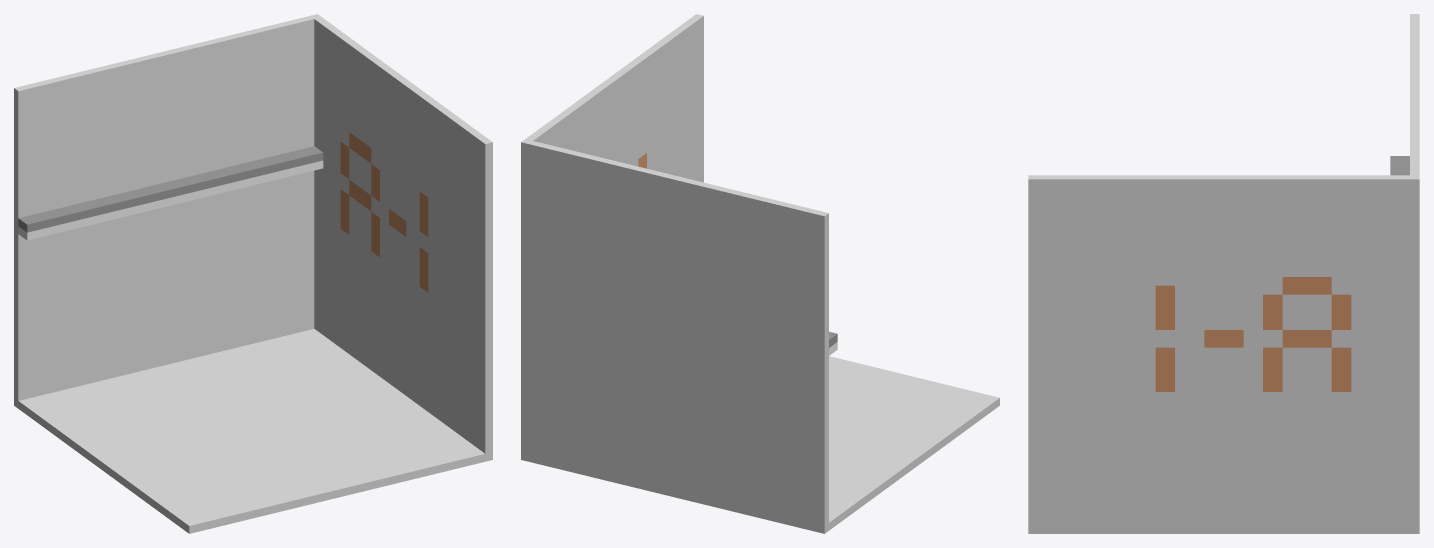
Rendered from Wall_Corner(Ver_1_Number 1).obj.
3 views of the same model, side by side, from view 1: azimuth 30°, elevation 25°; view 2: azimuth 150°, elevation 25°; view 3: azimuth 270°, elevation 25° (orthographic). The views are drawn at different scales.
Size of the model in its own units: 4 by 4 by 4.
Materials: 1 (1 with a texture image).
